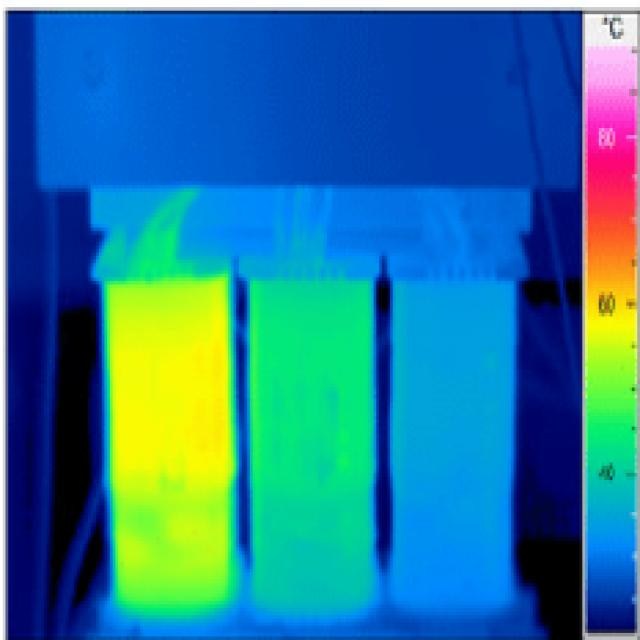Transformer: (36, 14, 547, 633)
